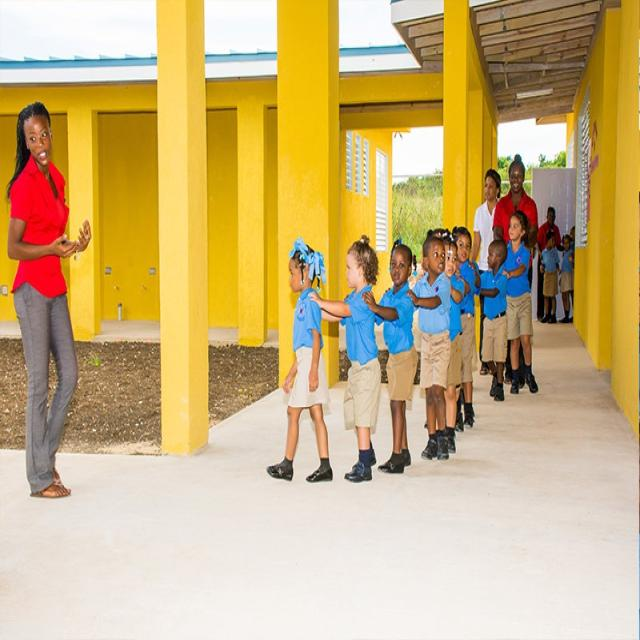body: (0, 95, 96, 502), (262, 234, 336, 485), (309, 234, 383, 485), (362, 239, 420, 475), (404, 233, 454, 463), (491, 152, 538, 388), (469, 167, 502, 377), (503, 210, 540, 396), (437, 229, 467, 456), (478, 235, 511, 402), (451, 226, 478, 430), (534, 204, 566, 323), (538, 226, 562, 324), (557, 232, 575, 325), (568, 222, 575, 324), (425, 224, 450, 236)
